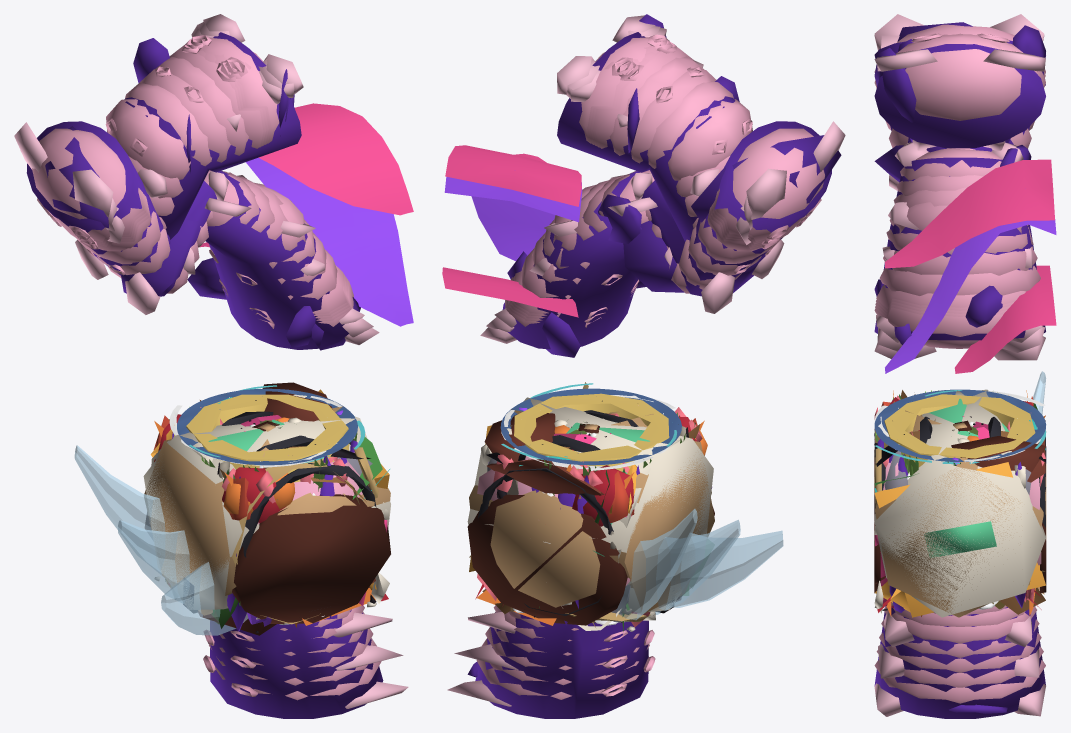
Rendered from traversee-v4-leger.glb.
The picture shows the model from 3 angles, left to right: view 1: azimuth 30°, elevation 25°; view 2: azimuth 150°, elevation 25°; view 3: azimuth 270°, elevation 25°; orthographic projection. The views are drawn at different scales.
Visible parts, largest first — view 1: tentacule_s3, tonneau_flotte, tentacule_s4, tentacule_s2, jumeaux_drapeau, tentacule_s1, bouteille_flotte, bourrasque_souffle, aiguille_corps, jumeaux_corps, tourbillon_corps, recif_corps (+1 smaller); view 2: tentacule_s3, tentacule_s4, tonneau_flotte, tentacule_s2, tentacule_s1, bouteille_flotte, jumeaux_drapeau, bourrasque_souffle, aiguille_corps, jumeaux_corps, tourbillon_corps, bourrasque_corps (+3 smaller); view 3: bouteille_flotte, tentacule_s2, tentacule_s1, tentacule_s3, jumeaux_drapeau, aiguille_corps, tentacule_s4, jumeaux_corps, tourbillon_corps, tonneau_flotte, tourbillon_remous, bourrasque_corps (+3 smaller).
Boxes of the visible parts, x1,y1,x2,y2 form: tentacule_s3: (105,14,303,239); tonneau_flotte: (145,400,390,628); tentacule_s4: (14,121,228,314); tentacule_s2: (187,170,379,350); jumeaux_drapeau: (199,103,413,326); tentacule_s1: (203,605,408,718); bouteille_flotte: (143,406,390,615); bourrasque_souffle: (74,445,236,635); aiguille_corps: (153,389,389,633); jumeaux_corps: (165,382,389,635); tourbillon_corps: (177,388,357,495); recif_corps: (150,398,389,626); tentacule_s3: (557,14,752,241); tentacule_s4: (623,121,845,313); tonneau_flotte: (467,403,714,625); tentacule_s2: (480,170,657,357); tentacule_s1: (447,605,655,718); bouteille_flotte: (467,397,714,613); jumeaux_drapeau: (442,145,582,317); bourrasque_souffle: (616,508,783,622); aiguille_corps: (469,393,704,631); jumeaux_corps: (481,382,688,631); tourbillon_corps: (500,388,681,496); bourrasque_corps: (477,400,680,613); bouteille_flotte: (874,389,1045,617); tentacule_s2: (874,142,1045,360); tentacule_s1: (874,602,1045,718); tentacule_s3: (874,25,1045,148); jumeaux_drapeau: (884,159,1056,373); aiguille_corps: (874,390,1045,617); tentacule_s4: (874,14,1045,190); jumeaux_corps: (874,394,1045,613); tourbillon_corps: (874,389,1046,604); tonneau_flotte: (874,415,1046,616); tourbillon_remous: (875,390,1046,614); bourrasque_corps: (874,390,1045,589).
Size of the model in its own units: 4.3 by 7.95 by 2.12.
